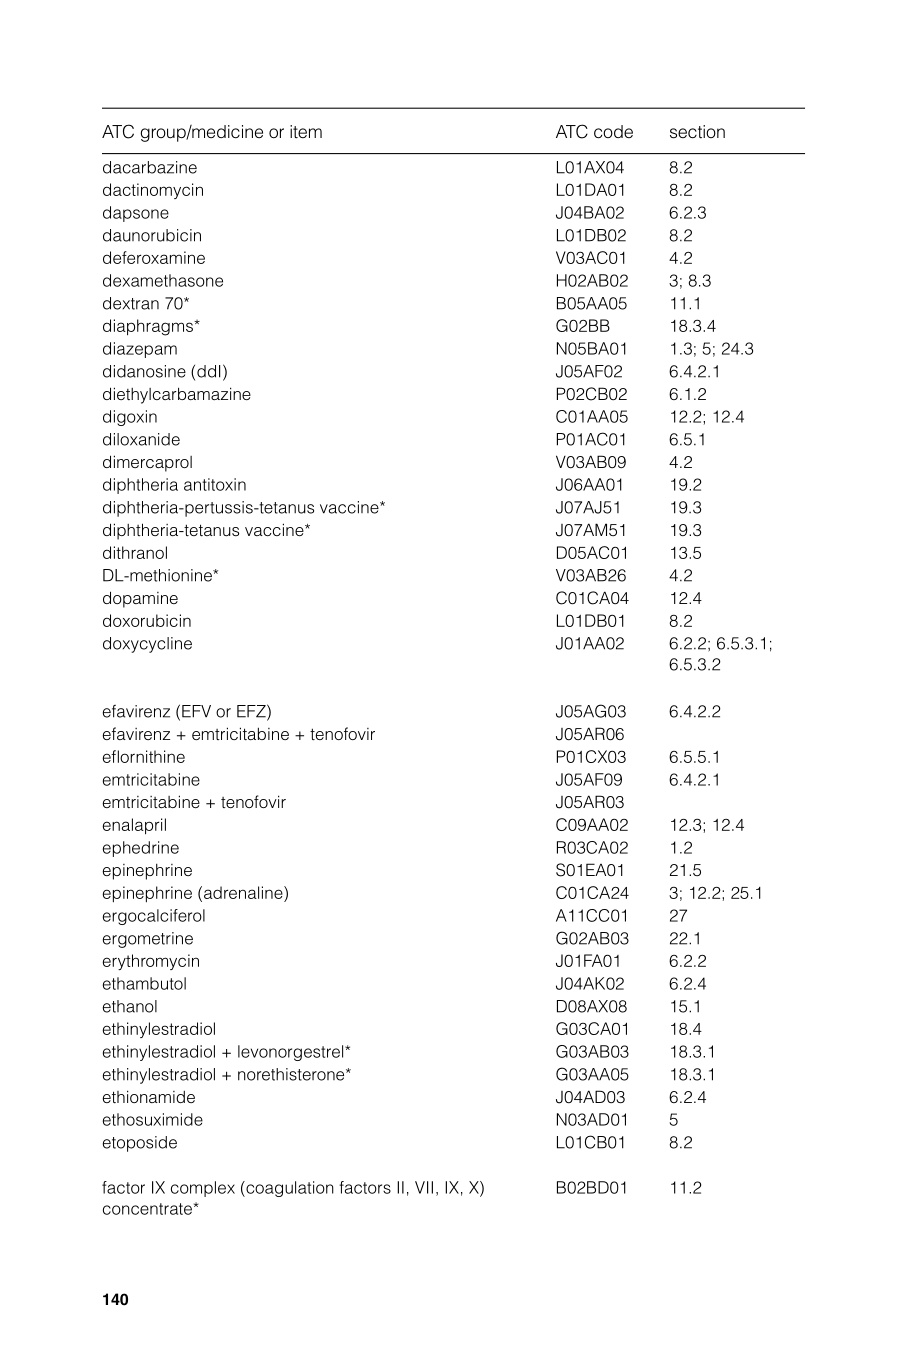partial_lined: (99, 105, 806, 1221)
